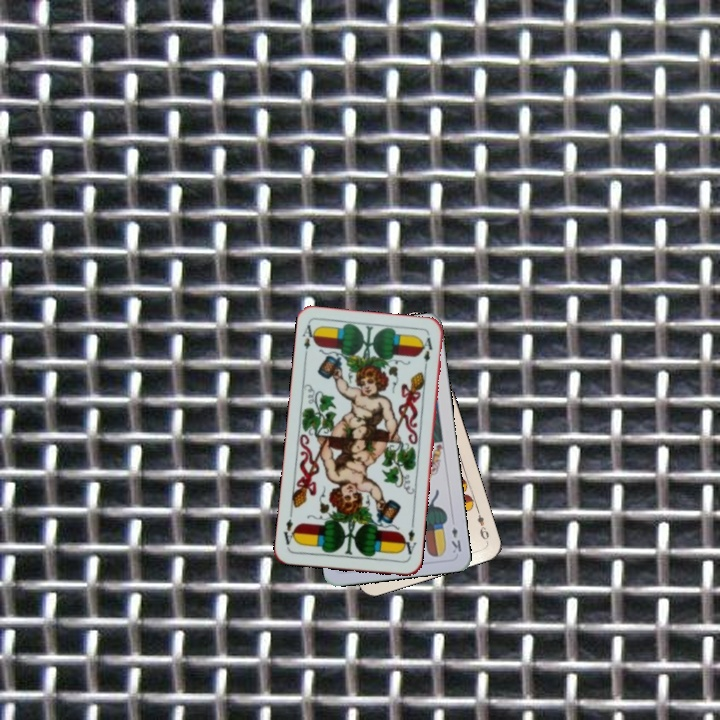E9: (472, 505, 492, 545)
EA: (398, 520, 419, 560), (298, 320, 319, 360)
EK: (448, 523, 464, 556)
